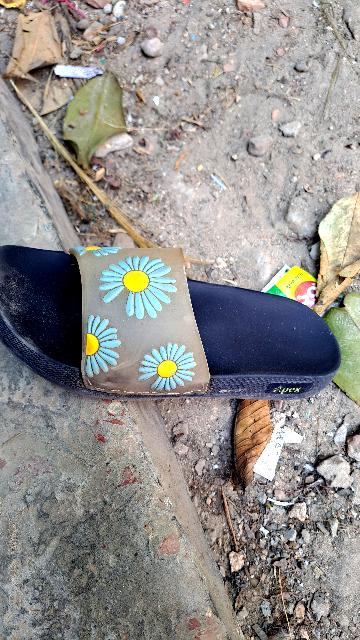sandal: (0, 223, 359, 439)
